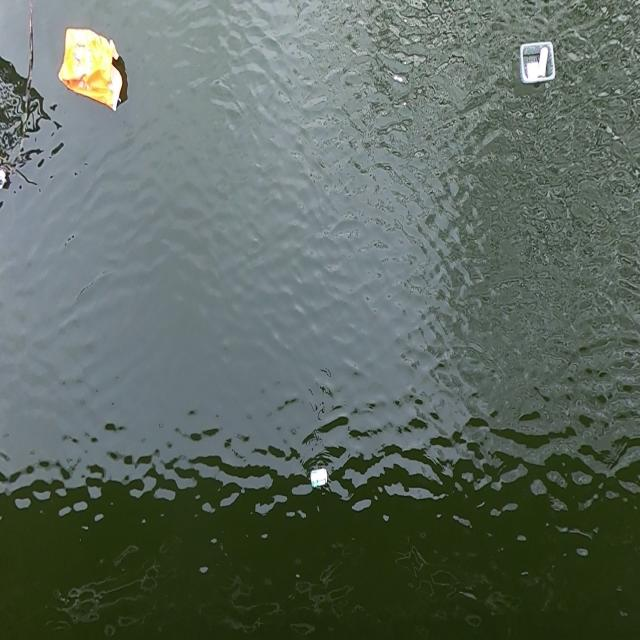Autre plastique: (514, 36, 560, 96)
Non plastique: (306, 467, 332, 491)
Sac plastique: (53, 22, 130, 122)
